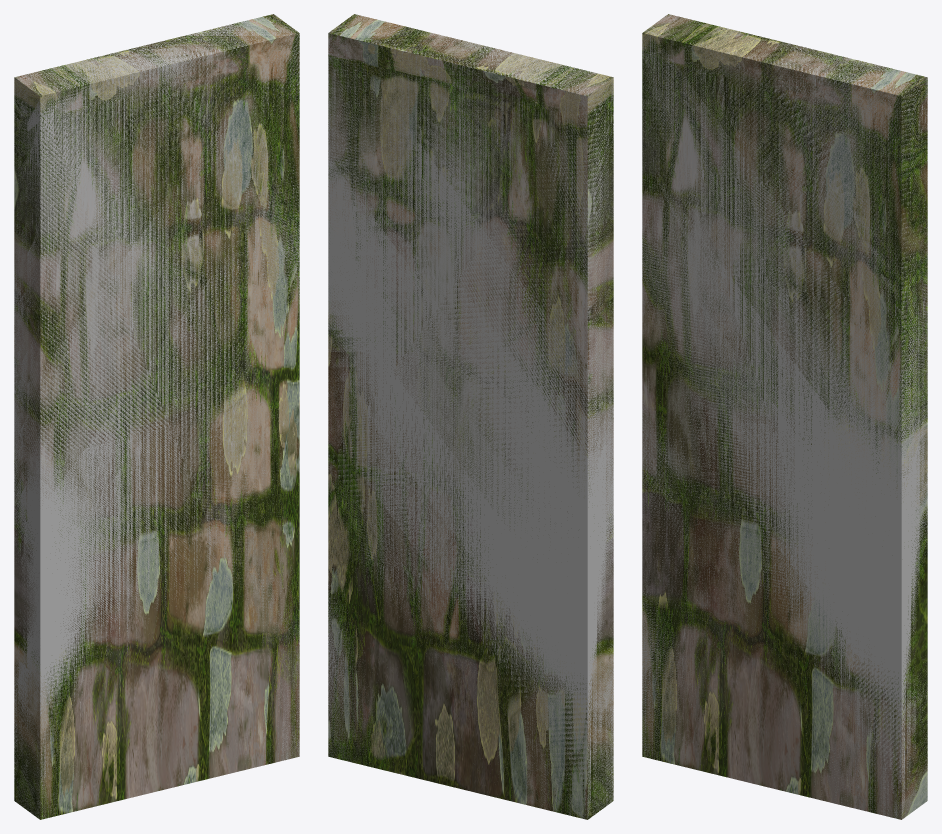
The model's file is SM_WallTiny.fbx.
The picture shows the model from 3 angles, left to right: view 1: azimuth 30°, elevation 25°; view 2: azimuth 150°, elevation 25°; view 3: azimuth 330°, elevation 25°; orthographic projection.
Visible parts, largest first — view 1: SM_WallTiny, SM_WallTiny_ConvexHulls; view 2: SM_WallTiny_ConvexHulls, SM_WallTiny; view 3: SM_WallTiny, SM_WallTiny_ConvexHulls.
Part boxes in pixels (box(x1,y1,x2,y2)): SM_WallTiny: box(14, 14, 299, 819); SM_WallTiny_ConvexHulls: box(14, 14, 299, 819); SM_WallTiny_ConvexHulls: box(328, 14, 613, 819); SM_WallTiny: box(328, 14, 613, 819); SM_WallTiny: box(642, 14, 927, 819); SM_WallTiny_ConvexHulls: box(642, 14, 927, 818).
Size of the model in its own units: 150 by 26 by 400.
2 materials, 1 textured.
